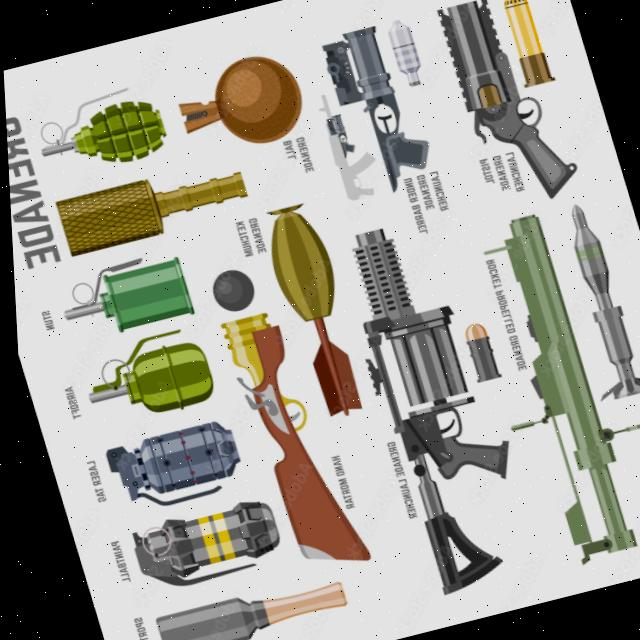firearm: (311, 84, 384, 204)
grenade: (250, 198, 373, 428), (47, 151, 254, 259), (536, 194, 640, 405), (117, 490, 284, 598), (163, 44, 314, 163), (67, 320, 221, 432), (23, 77, 175, 188), (93, 411, 246, 519), (40, 244, 194, 350), (142, 568, 347, 640), (491, 0, 559, 90), (380, 16, 427, 91), (456, 318, 499, 384)
pistol: (432, 0, 584, 214)
rocket: (322, 211, 544, 600), (446, 197, 640, 572), (315, 18, 441, 202), (327, 111, 358, 160)
